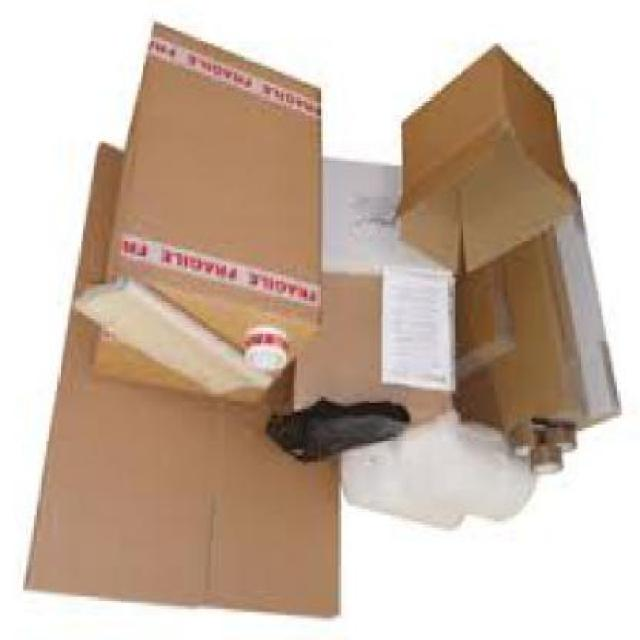CARDBOARD: (23, 147, 343, 624), (93, 21, 324, 412), (456, 181, 622, 481), (276, 160, 455, 428), (398, 47, 580, 278)
